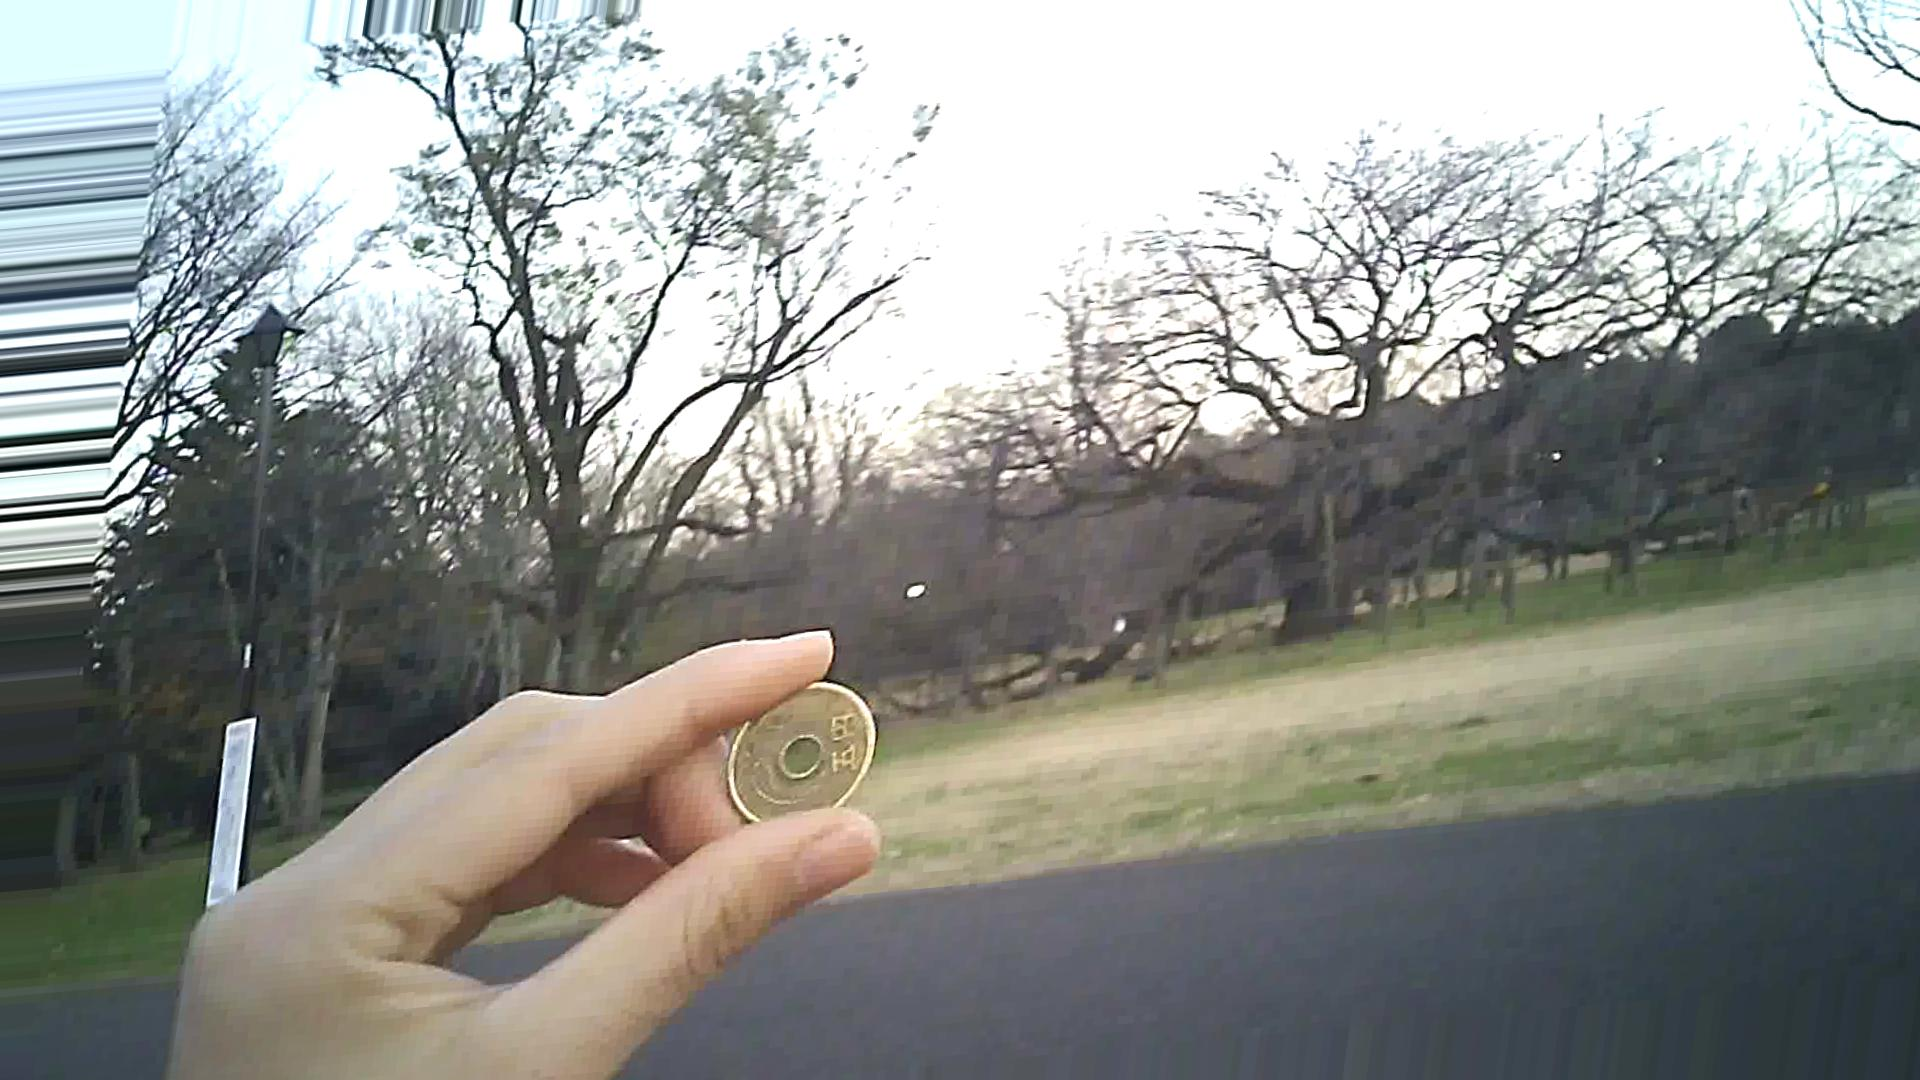5 Yen: (719, 670, 899, 868)
